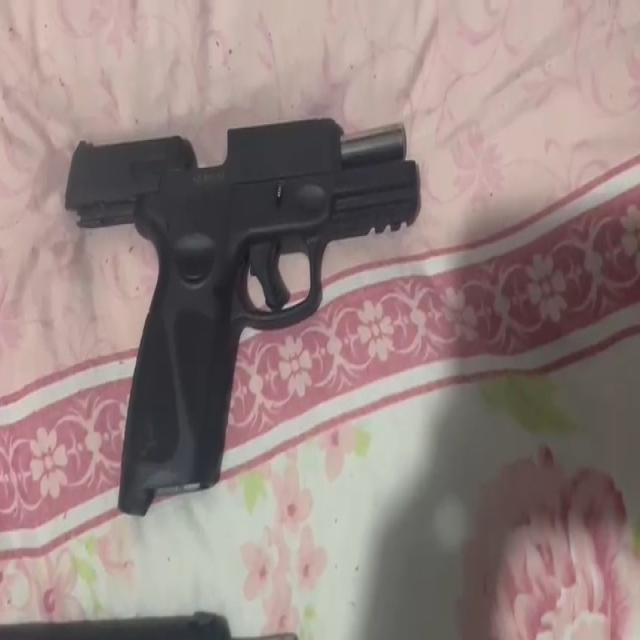gun: (66, 114, 426, 524)
